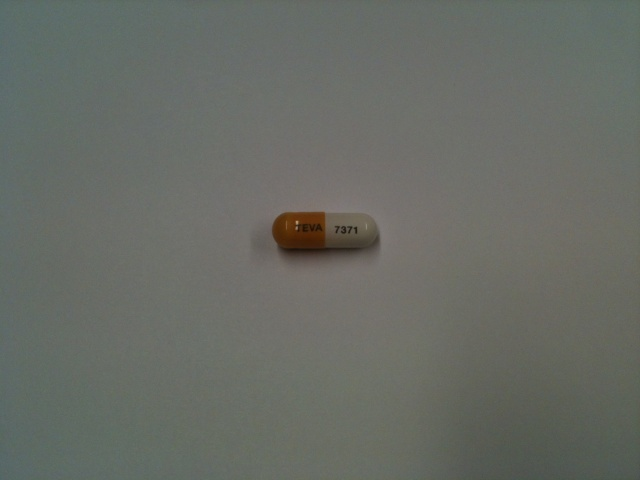capsule: (273, 208, 375, 250)
